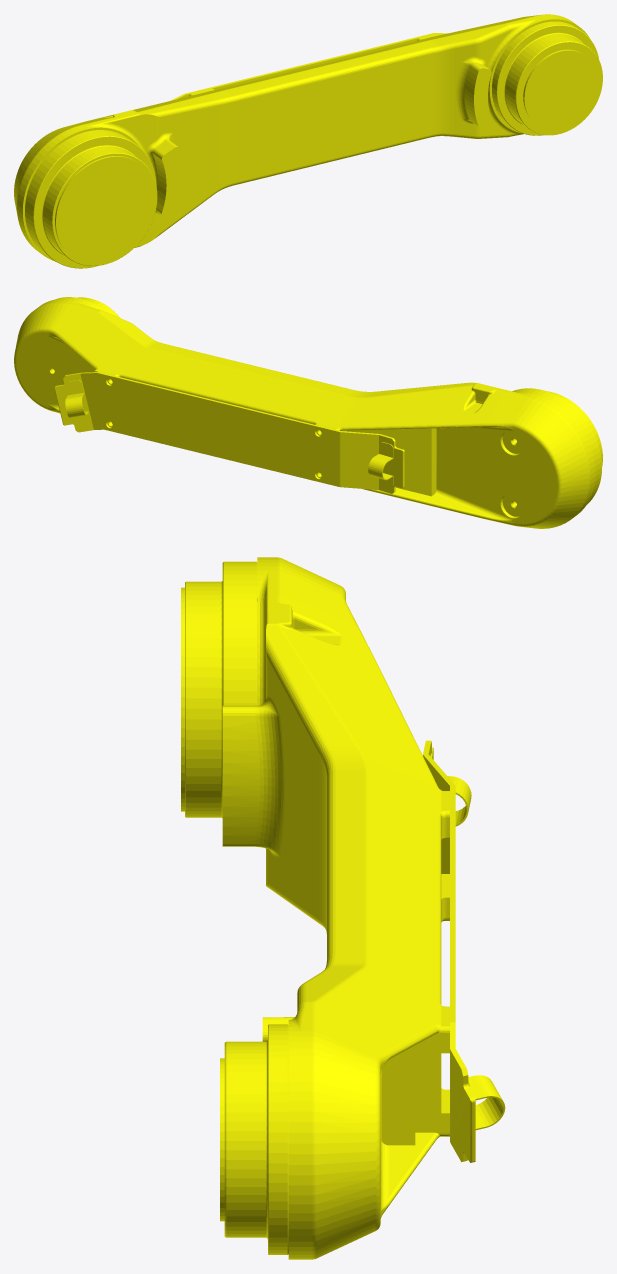
The picture shows the model from 3 angles, top to bottom: view 1: azimuth 30°, elevation 25°; view 2: azimuth 150°, elevation 25°; view 3: azimuth 270°, elevation 25°; orthographic projection. The views are drawn at different scales.
Visible parts, largest first — view 1: node; view 2: node; view 3: node.
Boxes of the visible parts, <box> form: node: <box>14,14,602,268</box>; node: <box>14,297,602,528</box>; node: <box>181,557,505,1259</box>.
Bounding box in the file's own units: 751 × 164 × 227.
